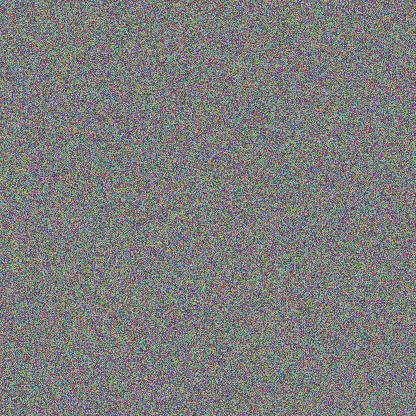empty: (163, 183, 217, 301)
occupied: (195, 144, 277, 219)
